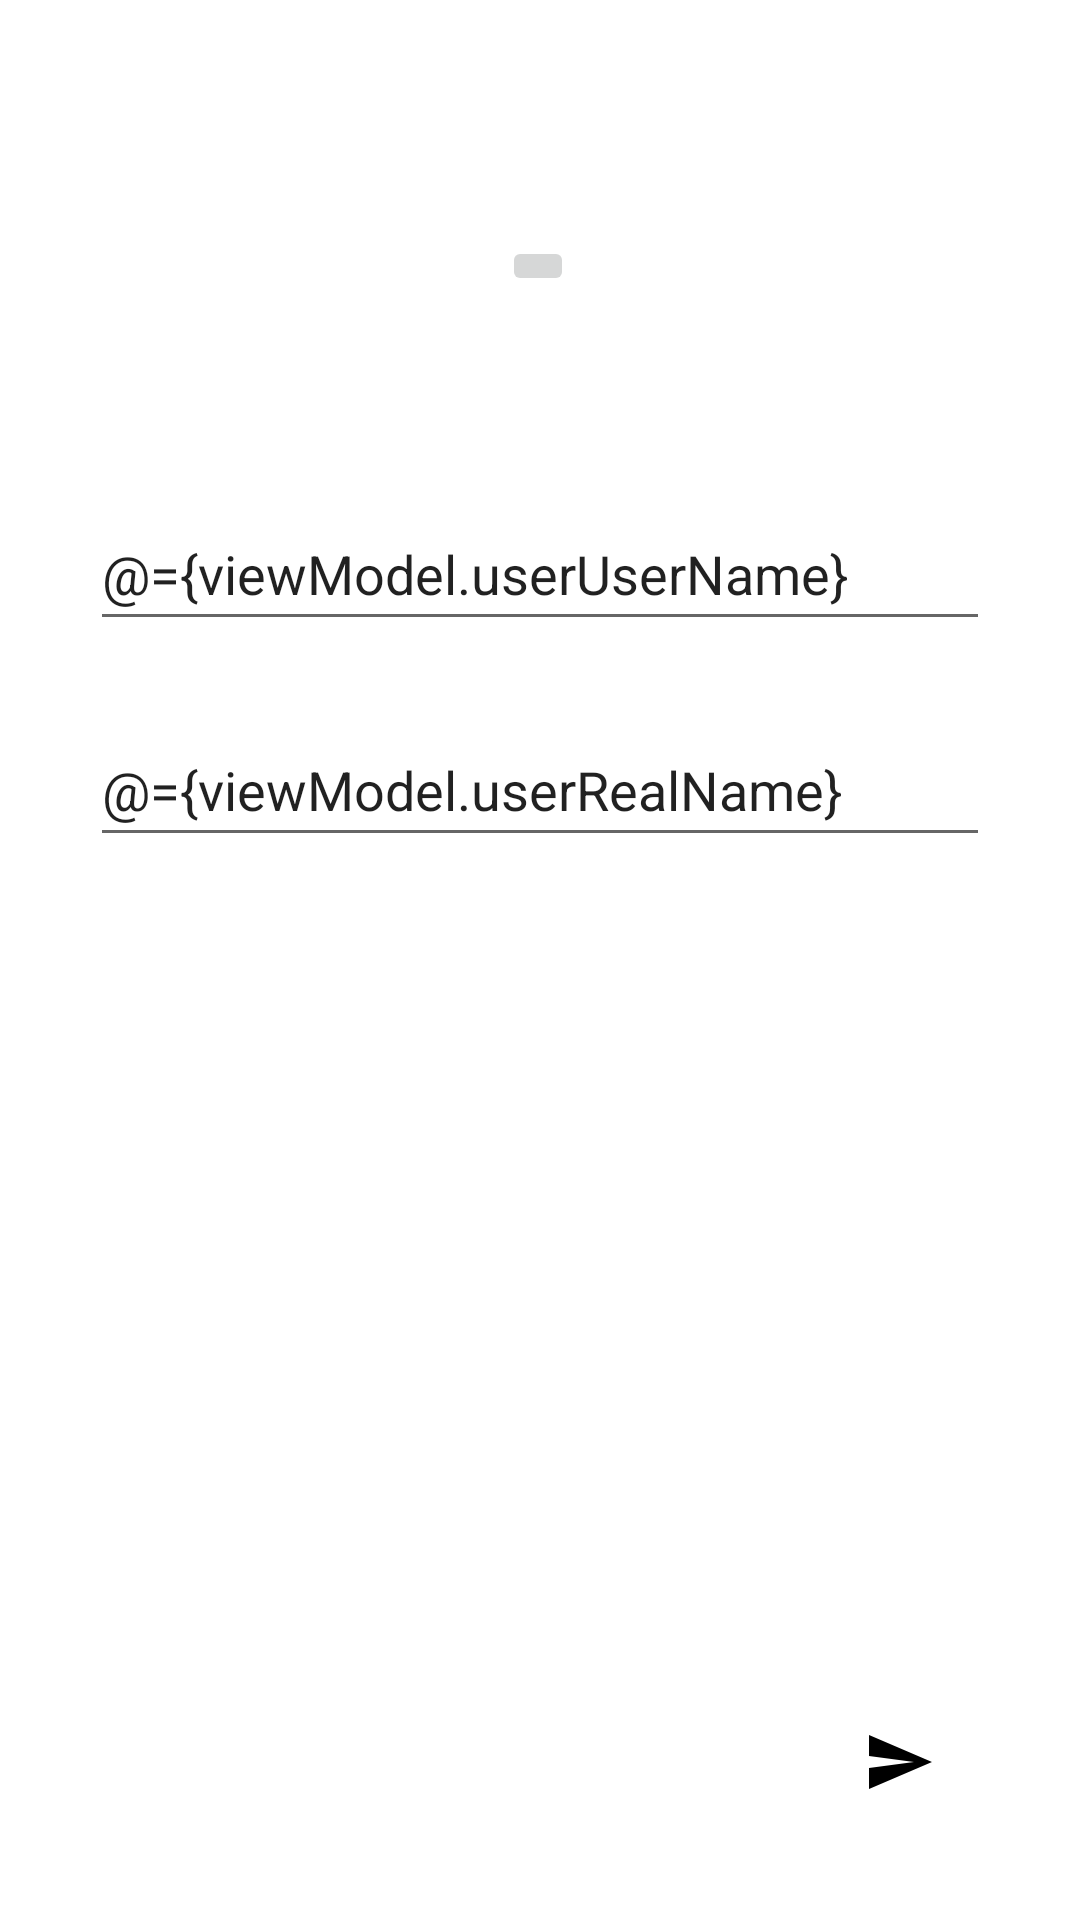

Point at icon controls on the screen. Image size 1080px×1920px, points as (x=x, y=y).
Finish first time setup: (x=900, y=1762)
